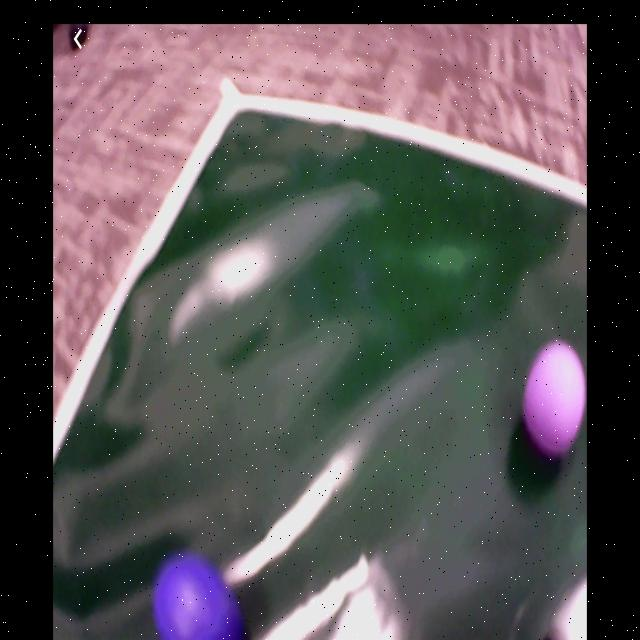ball: (153, 556, 247, 640), (524, 342, 588, 457)
